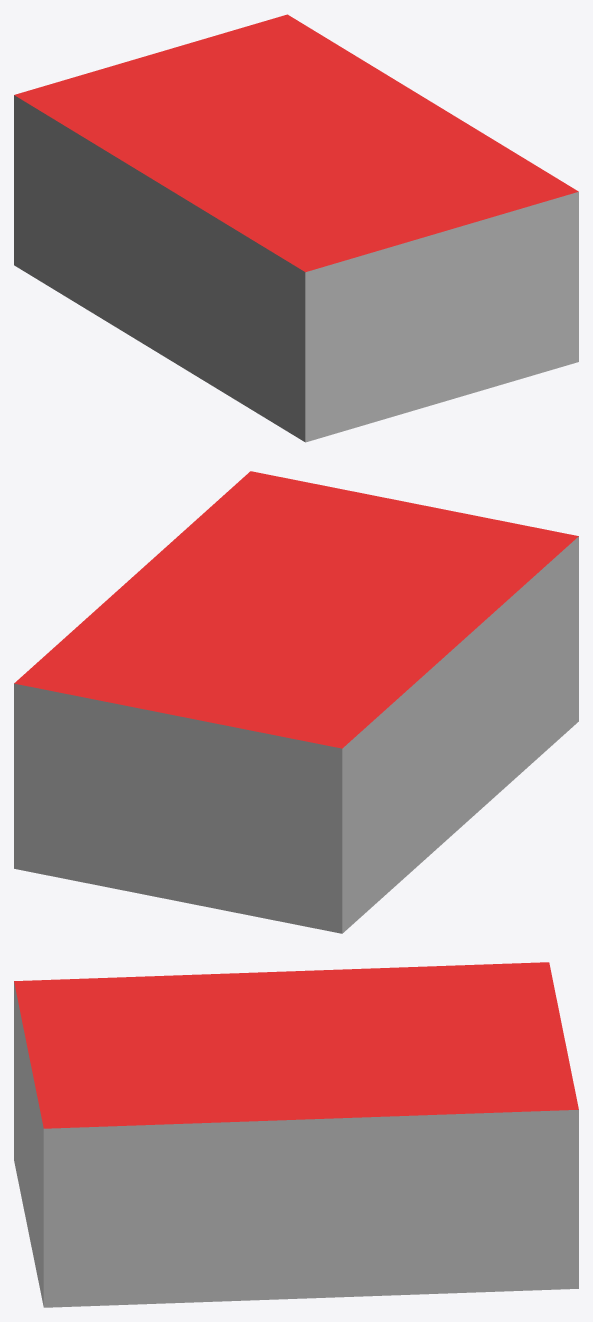
File: DEBY_LOD2_4781038.dae
3 views of the same model, one above another, from view 1: azimuth 30°, elevation 25°; view 2: azimuth 150°, elevation 25°; view 3: azimuth 270°, elevation 25° (orthographic). The views are drawn at different scales.
Size of the model in its own units: 6.07 by 8.7 by 3.04.
